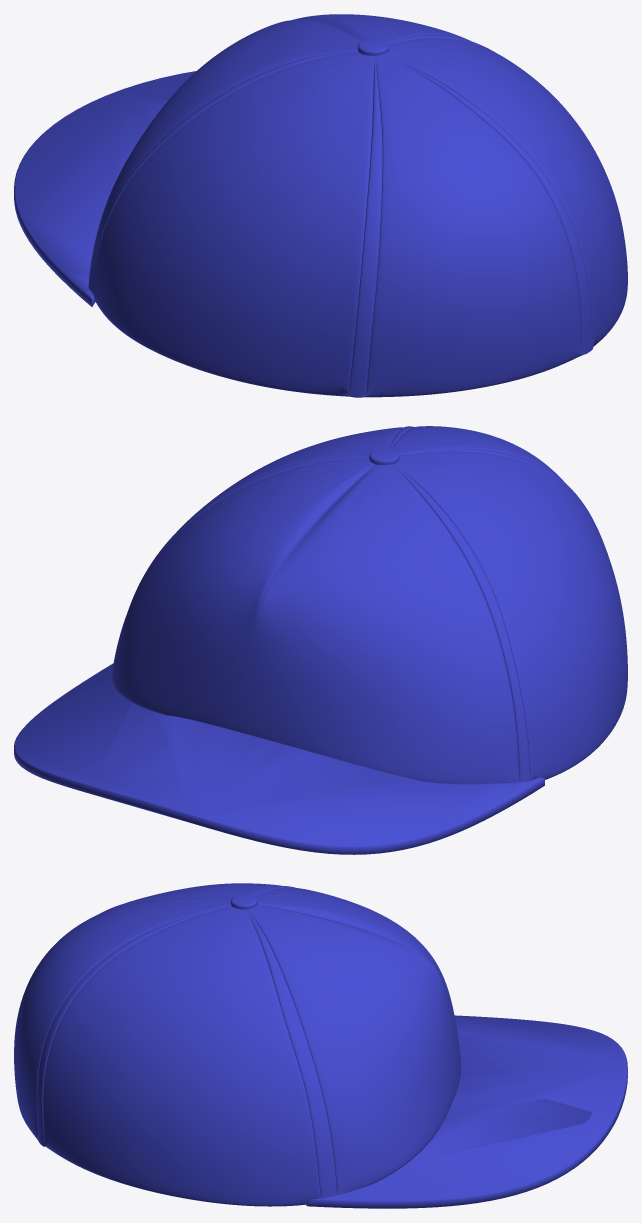
The model's file is bluecap.fbx.
The picture shows the model from 3 angles, top to bottom: view 1: azimuth 30°, elevation 25°; view 2: azimuth 150°, elevation 25°; view 3: azimuth 270°, elevation 25°; orthographic projection. The views are drawn at different scales.
Visible parts, largest first — view 1: node_id16; view 2: node_id16; view 3: node_id16.
Boxes of the visible parts, left/top/right/bottom form: node_id16: left=14, top=14, right=627, bottom=397; node_id16: left=14, top=426, right=627, bottom=854; node_id16: left=14, top=883, right=627, bottom=1208.
Bounding box in the file's own units: 0.47 × 0.2395 × 0.6297.
Materials: 1 (1 with a texture image).
